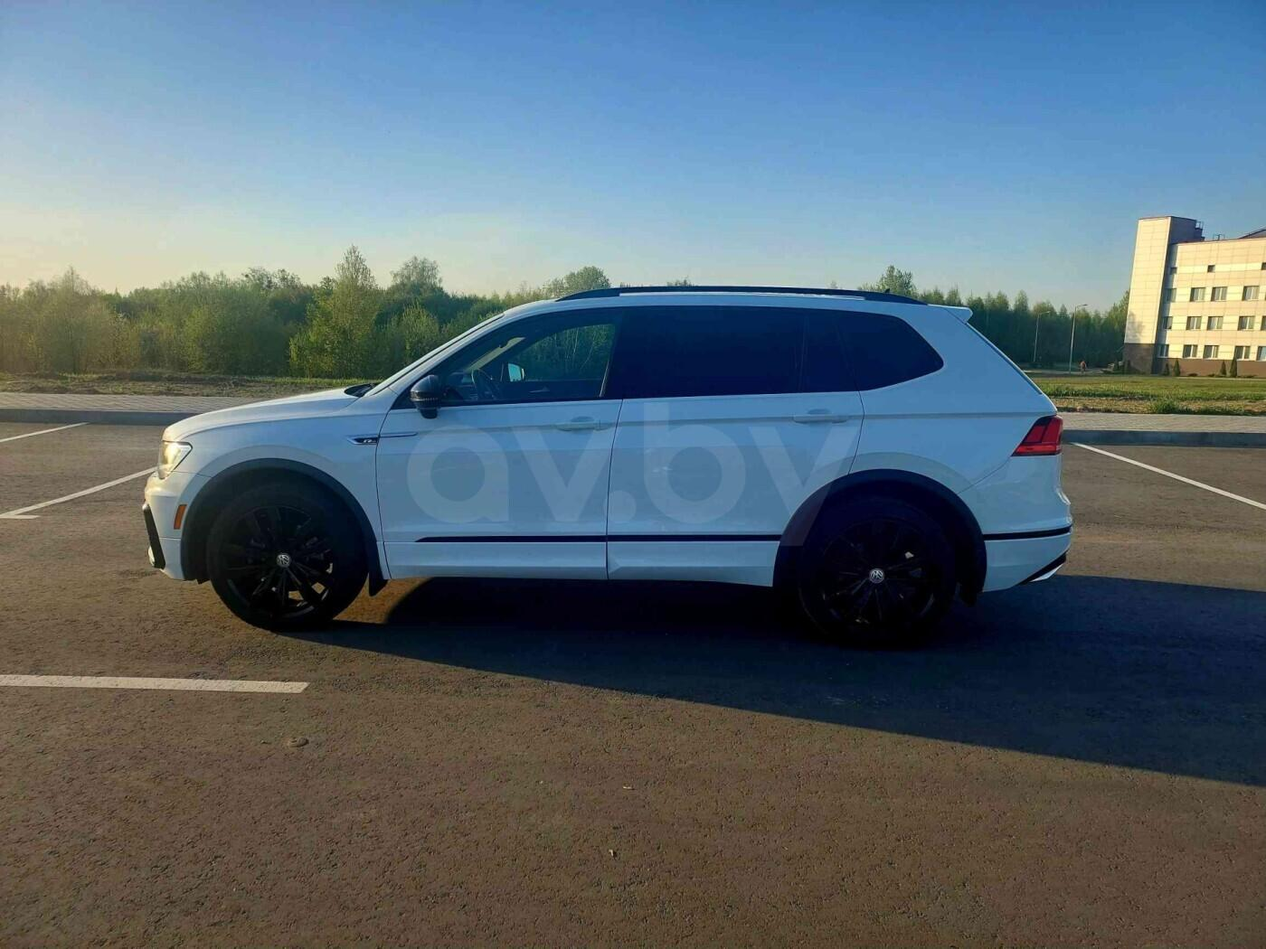Tiguan_2016-2021: (141, 283, 1076, 665)
